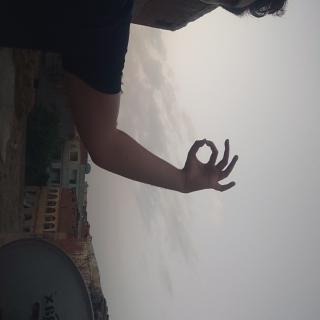Space: (102, 105, 150, 190)
